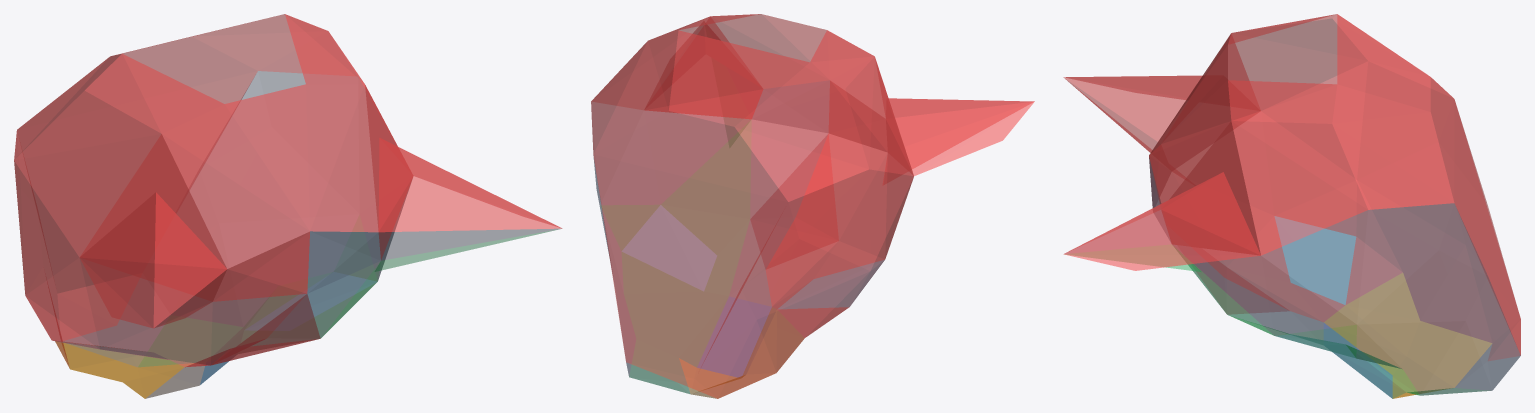
File: candidate-panels-combined.obj
3 views of the same model, side by side, from view 1: azimuth 30°, elevation 25°; view 2: azimuth 150°, elevation 25°; view 3: azimuth 270°, elevation 25° (orthographic). The views are drawn at different scales.
Parts seen in each view (by area): view 1: panel_MANQ008_P057_P031_P005_P035, panel_QUAD017_P020_P021_P032_P030, panel_QUAD032_P050_P052_P064_P062, panel_TRI012_P007_P028_P069, panel_MANQ007_P072_P060_P057_P031, panel_QUAD033_P052_P053_P054_P064, panel_TRI034_P024_P054_P064, panel_QUAD025_P037_P051_P052_P066, panel_TRI036_P024_P065_P068, panel_TRI055_P045_P052_P053, panel_TRI035_P024_P064_P065, panel_TRI033_P024_P028_P067 (+56 smaller); view 2: panel_MANQ008_P057_P031_P005_P035, panel_MANQ006_P070_P063_P060_P072, panel_MANQ007_P072_P060_P057_P031, panel_QUAD031_P049_P050_P058_P056, panel_QUAD025_P037_P051_P052_P066, panel_QUAD019_P026_P027_P028_P067, panel_TRI059_P050_P060_P062, panel_TRI027_P016_P026_P027, panel_TRI016_P009_P016_P027, panel_QUAD032_P050_P052_P064_P062, insert_INSERT_EYE_RIGHT_P015_P017_P016_P019, panel_TRI058_P050_P057_P060 (+61 smaller); view 3: panel_QUAD018_P021_P026_P067_P071, panel_QUAD008_P007_P025_P026_P069, panel_QUAD031_P049_P050_P058_P056, panel_QUAD017_P020_P021_P032_P030, panel_QUAD032_P050_P052_P064_P062, panel_TRI056_P049_P050_P052, panel_TRI028_P020_P021_P026, panel_QUAD033_P052_P053_P054_P064, panel_MANQ006_P070_P063_P060_P072, panel_QUAD027_P041_P042_P056_P043, panel_QUAD028_P043_P046_P049_P056, panel_MANQ008_P057_P031_P005_P035 (+60 smaller).
Boxes of the visible parts, x1,y1,x2,y2 form: panel_MANQ008_P057_P031_P005_P035: [17, 71, 257, 292]; panel_QUAD017_P020_P021_P032_P030: [220, 77, 358, 222]; panel_QUAD032_P050_P052_P064_P062: [14, 91, 160, 256]; panel_TRI012_P007_P028_P069: [378, 138, 561, 232]; panel_MANQ007_P072_P060_P057_P031: [19, 37, 256, 128]; panel_QUAD033_P052_P053_P054_P064: [80, 134, 226, 301]; panel_TRI034_P024_P054_P064: [162, 134, 309, 268]; panel_QUAD025_P037_P051_P052_P066: [80, 192, 155, 328]; panel_TRI036_P024_P065_P068: [225, 84, 309, 230]; panel_TRI055_P045_P052_P053: [80, 258, 210, 348]; panel_TRI035_P024_P064_P065: [162, 104, 309, 230]; panel_TRI033_P024_P028_P067: [310, 85, 378, 232]; panel_MANQ008_P057_P031_P005_P035: [593, 155, 787, 378]; panel_MANQ006_P070_P063_P060_P072: [669, 30, 809, 126]; panel_MANQ007_P072_P060_P057_P031: [594, 111, 787, 201]; panel_QUAD031_P049_P050_P058_P056: [757, 170, 870, 319]; panel_QUAD025_P037_P051_P052_P066: [889, 98, 1034, 175]; panel_QUAD019_P026_P027_P028_P067: [645, 17, 762, 118]; panel_TRI059_P050_P060_P062: [735, 89, 868, 168]; panel_TRI027_P016_P026_P027: [644, 111, 749, 203]; panel_TRI016_P009_P016_P027: [661, 121, 750, 218]; panel_QUAD032_P050_P052_P064_P062: [845, 56, 913, 176]; insert_INSERT_EYE_RIGHT_P015_P017_P016_P019: [622, 205, 716, 290]; panel_TRI058_P050_P057_P060: [735, 127, 868, 201]; panel_QUAD018_P021_P026_P067_P071: [1231, 121, 1367, 255]; panel_QUAD008_P007_P025_P026_P069: [1064, 172, 1260, 270]; panel_QUAD031_P049_P050_P058_P056: [1357, 62, 1465, 244]; panel_QUAD017_P020_P021_P032_P030: [1357, 210, 1465, 324]; panel_QUAD032_P050_P052_P064_P062: [1232, 18, 1367, 110]; panel_TRI056_P049_P050_P052: [1262, 62, 1367, 179]; panel_TRI028_P020_P021_P026: [1261, 210, 1368, 323]; panel_QUAD033_P052_P053_P054_P064: [1161, 34, 1259, 170]; panel_MANQ006_P070_P063_P060_P072: [1337, 14, 1430, 111]; panel_QUAD027_P041_P042_P056_P043: [1403, 245, 1491, 342]; panel_QUAD028_P043_P046_P049_P056: [1356, 180, 1464, 271]; panel_MANQ008_P057_P031_P005_P035: [1454, 99, 1520, 354].
Bounding box in the file's own units: 203 × 180 × 220.
